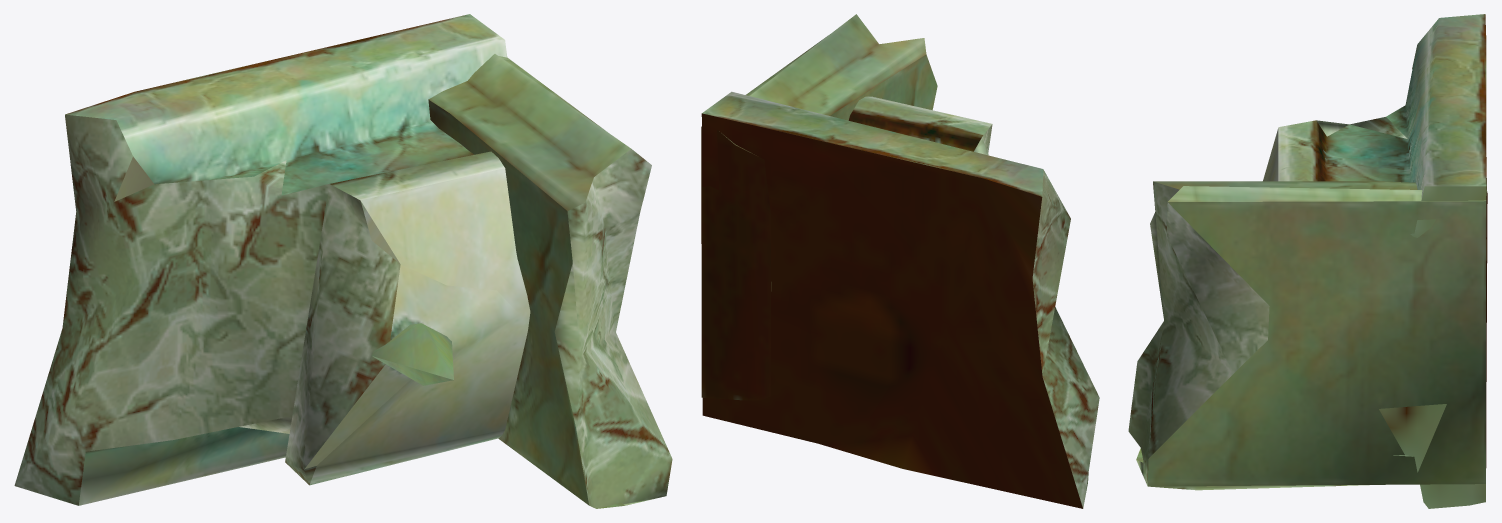
Rendered from Ruins_Wall_Arch_DMG_C.fbx.
The picture shows the model from 3 angles, left to right: view 1: azimuth 30°, elevation 25°; view 2: azimuth 150°, elevation 25°; view 3: azimuth 270°, elevation 25°; orthographic projection. The views are drawn at different scales.
Visible parts, largest first — view 1: Ruins_Wall_Arch_DMG_C; view 2: Ruins_Wall_Arch_DMG_C; view 3: Ruins_Wall_Arch_DMG_C.
Part boxes in pixels (<box>): Ruins_Wall_Arch_DMG_C: <box>14,14,672,508</box>; Ruins_Wall_Arch_DMG_C: <box>701,14,1099,508</box>; Ruins_Wall_Arch_DMG_C: <box>1128,14,1487,508</box>.
Bounding box in the file's own units: 461 × 355 × 352.
